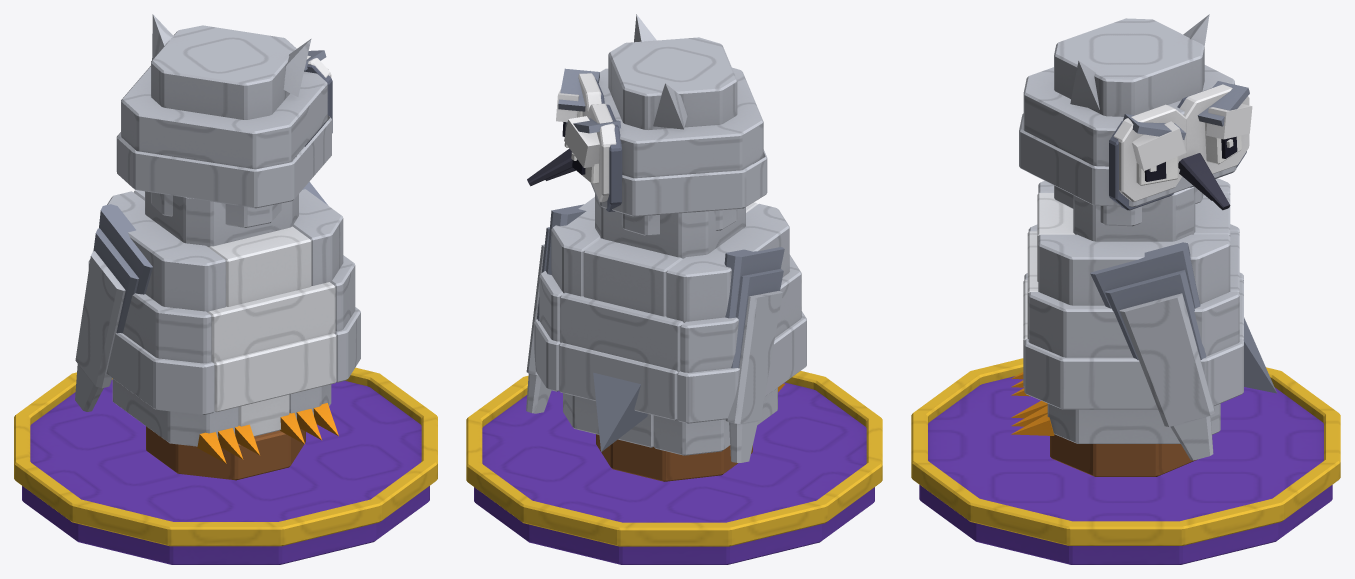
Rendered from SwivelOwl.fbx.
3 renders of one model, left to right at view 1: azimuth 30°, elevation 25°; view 2: azimuth 150°, elevation 25°; view 3: azimuth 270°, elevation 25°, orthographic. The views are drawn at different scales.
Visible parts, largest first — view 1: Art_SwivelOwl_Body, Art_SwivelOwl_Stand, Art_SwivelOwl_Head, Art_SwivelOwl_WingR, Art_SwivelOwl_Branch; view 2: Art_SwivelOwl_Stand, Art_SwivelOwl_Body, Art_SwivelOwl_Head, Art_SwivelOwl_WingR, Art_SwivelOwl_Branch, Art_SwivelOwl_WingL; view 3: Art_SwivelOwl_Stand, Art_SwivelOwl_Body, Art_SwivelOwl_Head, Art_SwivelOwl_WingL, Art_SwivelOwl_Branch, Art_SwivelOwl_WingR.
Boxes of the visible parts, x1,y1,x2,y2 form: Art_SwivelOwl_Body: (88, 189, 360, 463); Art_SwivelOwl_Stand: (14, 367, 437, 564); Art_SwivelOwl_Head: (116, 14, 332, 227); Art_SwivelOwl_WingR: (75, 204, 152, 411); Art_SwivelOwl_Branch: (146, 426, 305, 480); Art_SwivelOwl_Stand: (466, 371, 882, 564); Art_SwivelOwl_Body: (534, 194, 806, 455); Art_SwivelOwl_Head: (527, 14, 767, 235); Art_SwivelOwl_WingR: (593, 247, 784, 462); Art_SwivelOwl_Branch: (596, 434, 752, 481); Art_SwivelOwl_WingL: (526, 204, 586, 413); Art_SwivelOwl_Stand: (911, 358, 1340, 564); Art_SwivelOwl_Body: (1011, 178, 1243, 443); Art_SwivelOwl_Head: (1019, 14, 1252, 226); Art_SwivelOwl_WingL: (1090, 242, 1214, 460); Art_SwivelOwl_Branch: (1050, 434, 1197, 476); Art_SwivelOwl_WingR: (1244, 317, 1277, 393).
Size of the model in its own units: 2.61 by 3.01 by 2.61.
